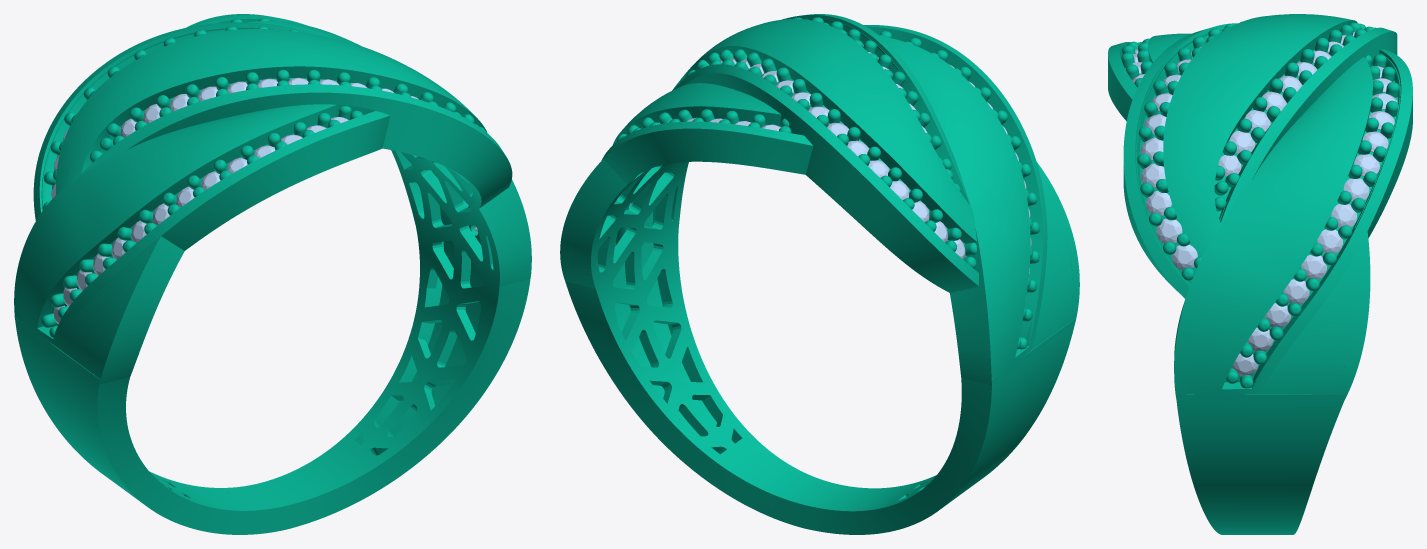
The picture shows the model from 3 angles, left to right: view 1: azimuth 30°, elevation 25°; view 2: azimuth 150°, elevation 25°; view 3: azimuth 270°, elevation 25°; orthographic projection.
Visible parts, largest first — view 1: 105 Anillo Cedille.3dm; view 2: 105 Anillo Cedille.3dm; view 3: 105 Anillo Cedille.3dm, GemOnCrv (×14), Diamond_Round.
Boxes of the visible parts, x1,y1,x2,y2 form: 105 Anillo Cedille.3dm: [14, 14, 531, 534]; 105 Anillo Cedille.3dm: [560, 14, 1079, 534]; 105 Anillo Cedille.3dm: [1108, 14, 1412, 534]; GemOnCrv (×14): [1141, 110, 1379, 375]; Diamond_Round: [1229, 130, 1255, 153].
Bounding box in the file's own units: 2.55 × 2.66 × 1.55.
